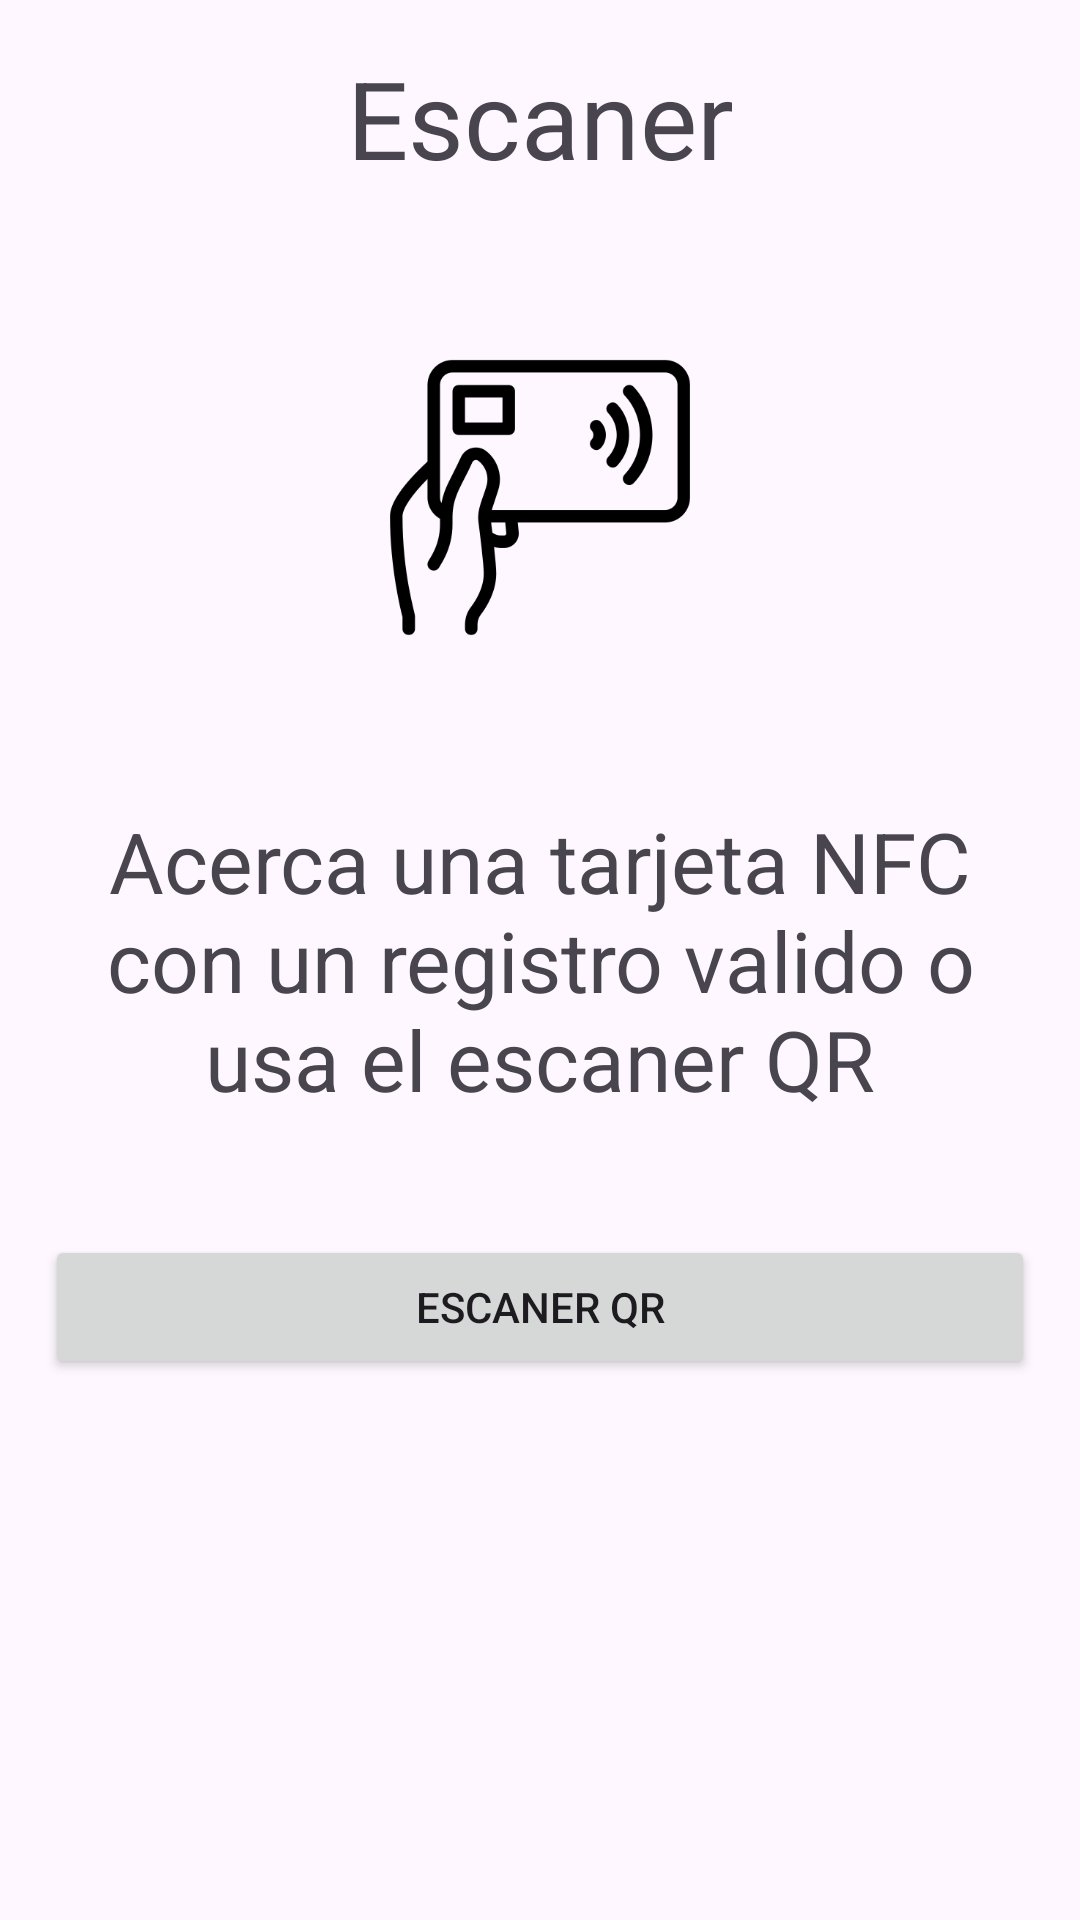

Screen size 1080 x 1920. Icon name, then its center in pixels as [x,y]:
nfc card: [540,497]
